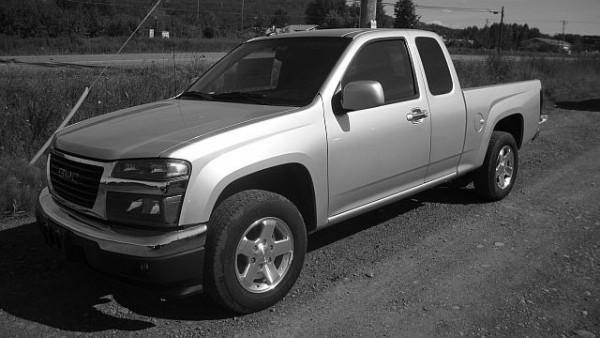car: (36, 23, 554, 323)
